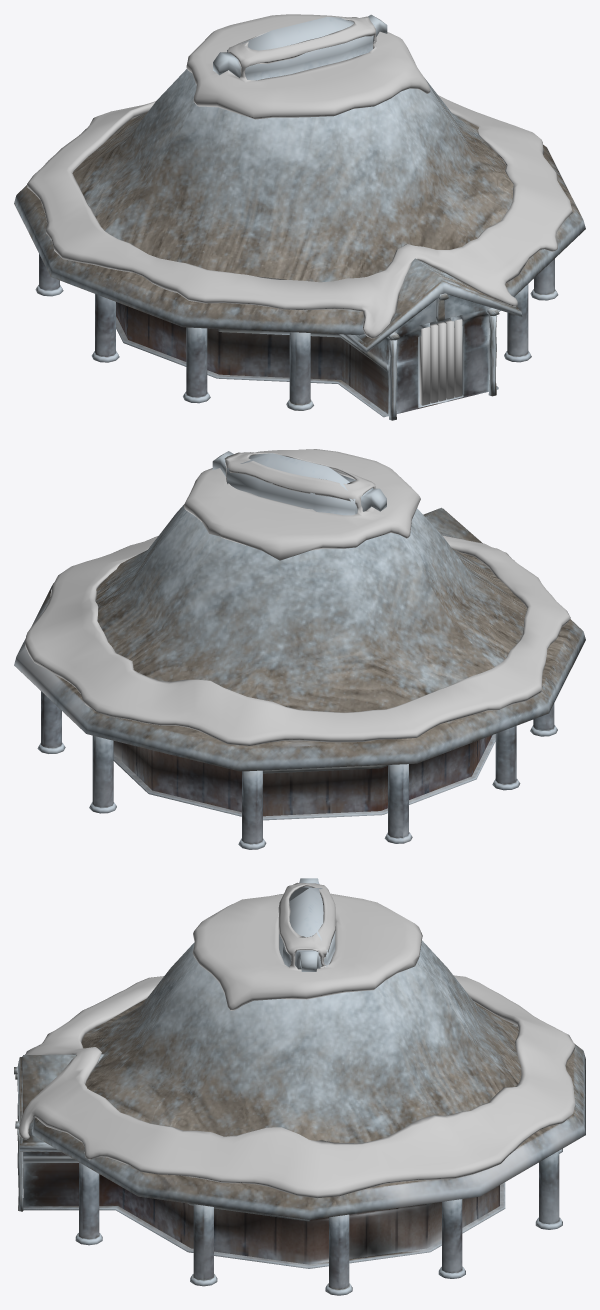
Rendered from snowlast.fbx.
3 renders of one model, top to bottom at view 1: azimuth 30°, elevation 25°; view 2: azimuth 150°, elevation 25°; view 3: azimuth 270°, elevation 25°, orthographic.
Visible parts, largest first — view 1: JotunHouse2, ZBrush_defualt_group, door1(2); view 2: JotunHouse2, ZBrush_defualt_group; view 3: JotunHouse2, ZBrush_defualt_group.
Part boxes in pixels (<box>): JotunHouse2: <box>14,14,585,420</box>; ZBrush_defualt_group: <box>27,14,572,338</box>; door1(2): <box>419,319,462,405</box>; JotunHouse2: <box>14,451,585,849</box>; ZBrush_defualt_group: <box>25,449,570,745</box>; JotunHouse2: <box>14,878,585,1295</box>; ZBrush_defualt_group: <box>18,882,575,1198</box>.
Size of the model in its own units: 54.74 by 29.44 by 53.8.
